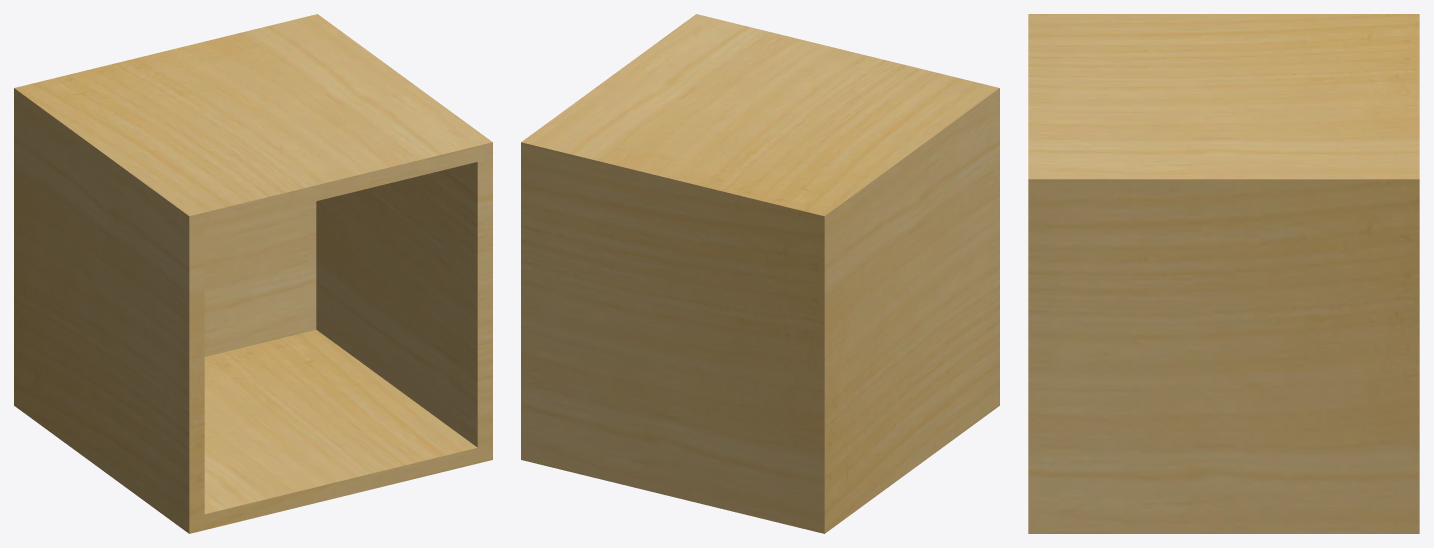
Rendered from sh-lp-pensile-acero.glb.
3 views of the same model, side by side, from view 1: azimuth 30°, elevation 25°; view 2: azimuth 150°, elevation 25°; view 3: azimuth 270°, elevation 25° (orthographic). The views are drawn at different scales.
Visible parts, largest first — view 1: Box45_1; view 2: Box45_1; view 3: Box45_1.
Part boxes in pixels (x1=…): Box45_1: x1=14, y1=14, x2=492, y2=533; Box45_1: x1=521, y1=14, x2=999, y2=533; Box45_1: x1=1028, y1=14, x2=1419, y2=533.
Size of the model in its own units: 1 by 1 by 1.
1 material, 1 textured.
